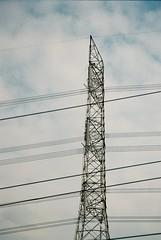power_tower: (73, 32, 115, 240)
